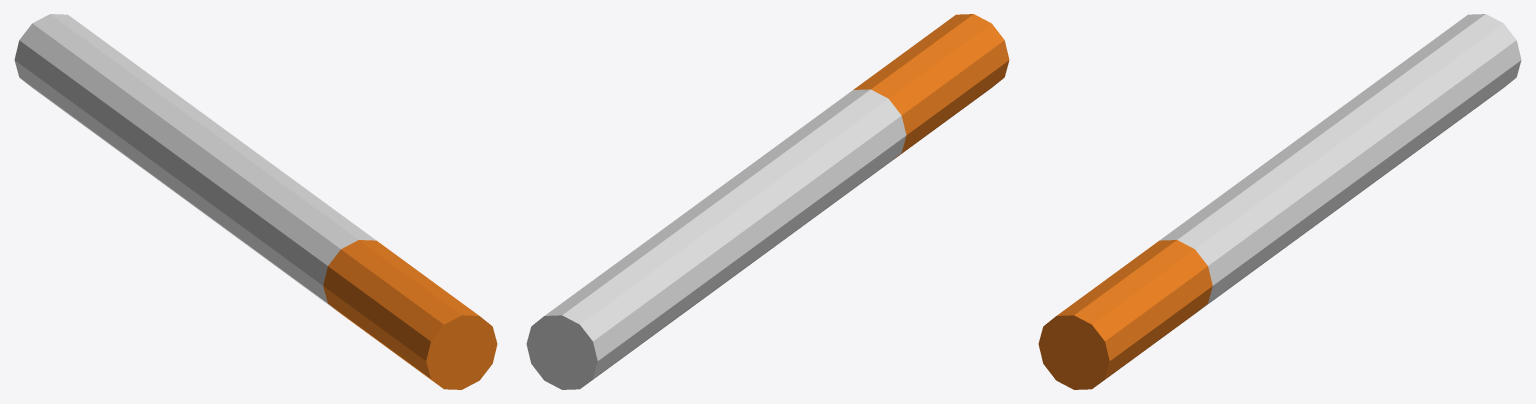
Rendered from Cigarrete.fbx.
The picture shows the model from 3 angles, left to right: view 1: azimuth 30°, elevation 25°; view 2: azimuth 150°, elevation 25°; view 3: azimuth 330°, elevation 25°; orthographic projection.
Parts seen in each view (by area): view 1: Cigarrete; view 2: Cigarrete; view 3: Cigarrete.
Part boxes in pixels (left/top/right/bottom): Cigarrete: left=14, top=14, right=497, bottom=389; Cigarrete: left=526, top=14, right=1009, bottom=389; Cigarrete: left=1038, top=14, right=1521, bottom=389.
Bounding box in the file's own units: 0.008 × 0.08 × 0.008.
